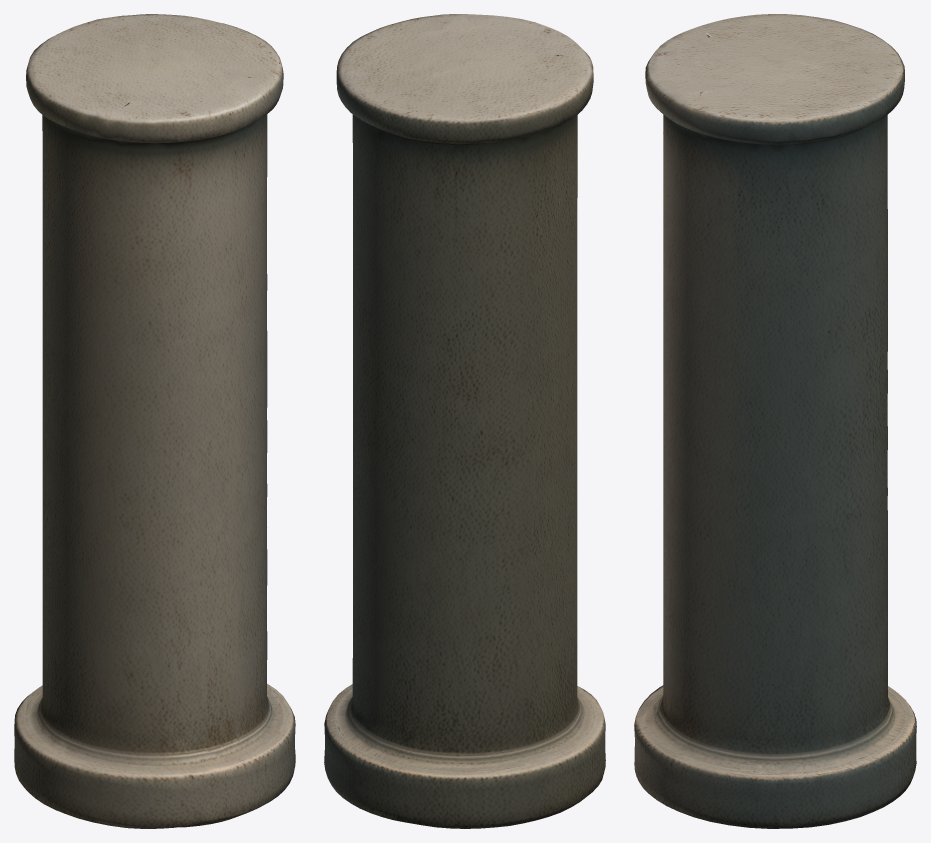
The model's file is Prop_PuzzleButtonPedestal.fbx.
The picture shows the model from 3 angles, left to right: view 1: azimuth 30°, elevation 25°; view 2: azimuth 150°, elevation 25°; view 3: azimuth 270°, elevation 25°; orthographic projection.
Parts seen in each view (by area): view 1: texture_mapping; view 2: texture_mapping; view 3: texture_mapping.
Boxes of the visible parts, box(x1,y1,x2,y2) form: texture_mapping: box(14, 14, 295, 828); texture_mapping: box(324, 14, 605, 828); texture_mapping: box(634, 14, 916, 828).
Size of the model in its own units: 0.3606 by 0.3605 by 1.
1 material, 1 textured.
